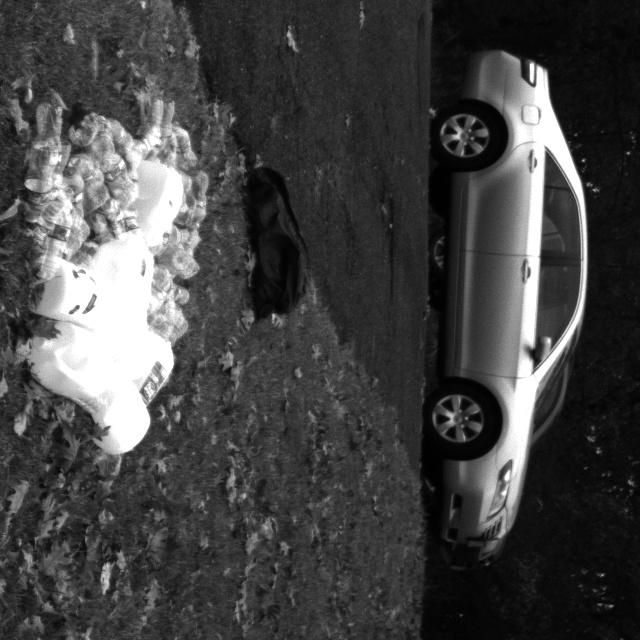bottle: (22, 144, 60, 211), (44, 207, 73, 279), (34, 104, 64, 173), (63, 168, 88, 236), (88, 112, 118, 167), (185, 170, 211, 230), (102, 154, 133, 204), (130, 122, 163, 168), (94, 450, 124, 491), (169, 125, 197, 165), (156, 248, 190, 280), (69, 113, 103, 144), (155, 100, 175, 150)
can: (27, 319, 114, 411), (30, 255, 118, 333), (102, 234, 155, 331), (92, 370, 152, 451), (133, 160, 185, 249), (132, 332, 178, 407)
